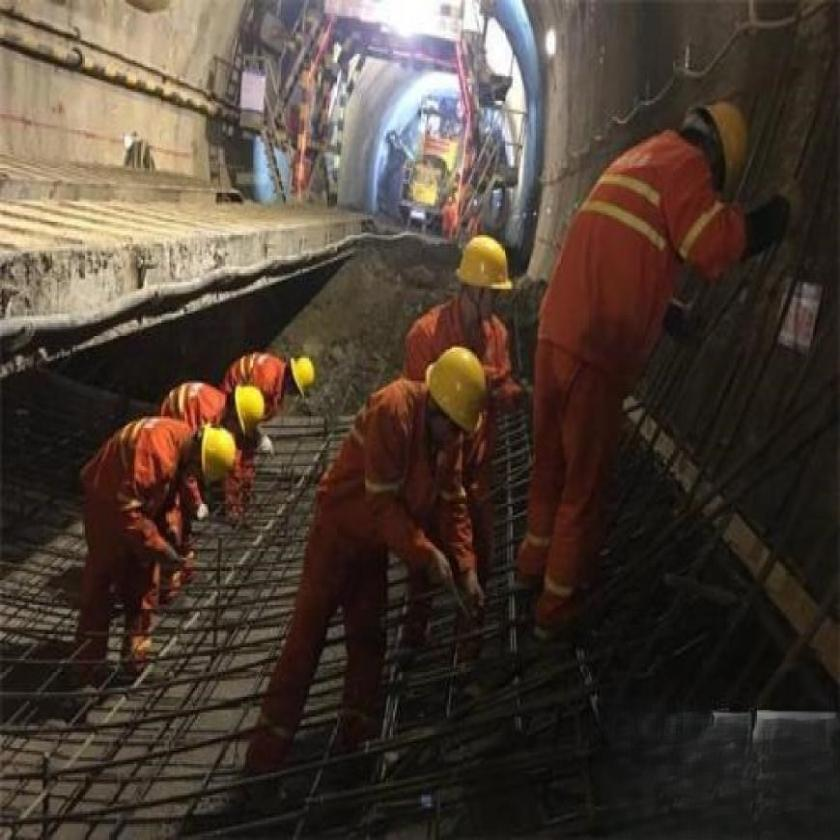Con_casco: (422, 338, 486, 463), (454, 232, 511, 323)
